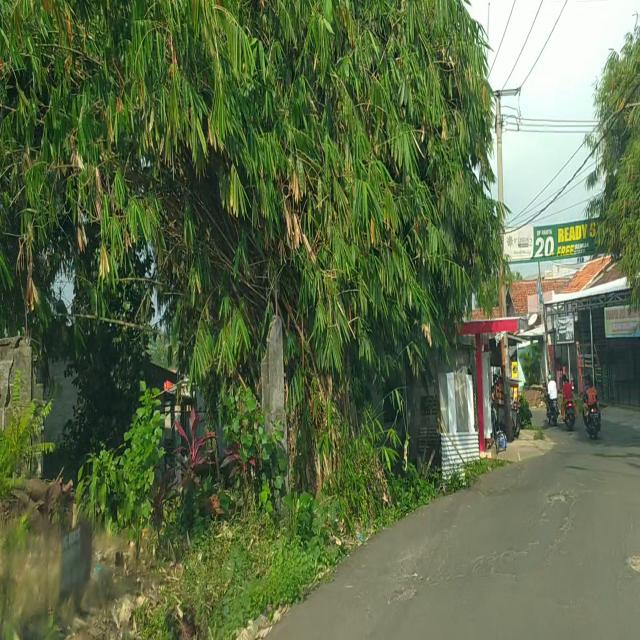Drain Hole: (444, 480, 585, 580)
